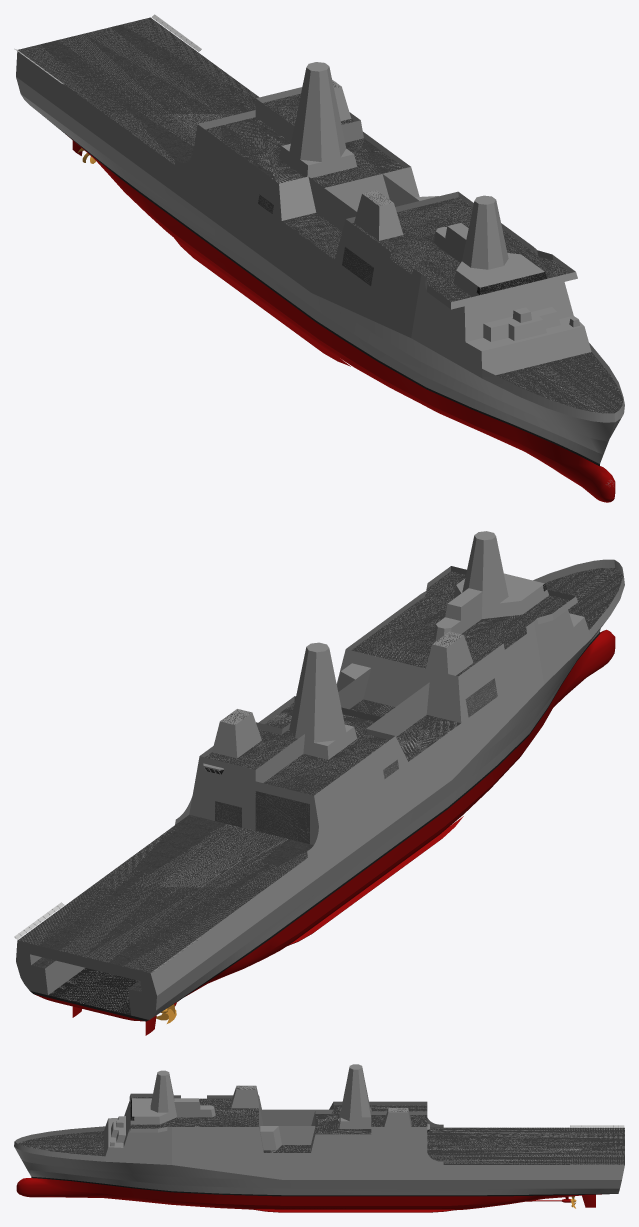
3 views of the same model, one above another, from view 1: azimuth 30°, elevation 25°; view 2: azimuth 150°, elevation 25°; view 3: azimuth 270°, elevation 25° (orthographic). The views are drawn at different scales.
Parts seen in each view (by area): view 1: group_0 (×5), group_15 (×3), hull__1_2_ (×3), group_6, group_5, group_1, Bilge_Keel__short_; view 2: group_0 (×7), group_15 (×4), hull__1_2_ (×6), group_6, group_5, Bilge_Keel__short_; view 3: group_0 (×5), group_15 (×3), hull__1_2_ (×3), group_6, group_5, Bilge_Keel__short_, group_7, group_1.
Boxes of the visible parts, x1,y1,x2,y2 form: group_0 (×5): (175, 86, 591, 378); group_15 (×3): (16, 17, 622, 441); hull__1_2_ (×3): (16, 77, 612, 502); group_6: (289, 62, 346, 161); group_5: (462, 195, 508, 269); group_1: (482, 369, 614, 422); Bilge_Keel__short_: (174, 238, 350, 366); group_0 (×7): (175, 566, 591, 857); group_15 (×4): (16, 568, 623, 995); hull__1_2_ (×6): (16, 629, 615, 1021); group_6: (289, 642, 346, 742); group_5: (462, 531, 508, 605); Bilge_Keel__short_: (288, 816, 463, 945); group_0 (×5): (104, 1086, 443, 1164); group_15 (×3): (14, 1127, 624, 1179); hull__1_2_ (×3): (16, 1160, 621, 1210); group_6: (340, 1064, 371, 1121); group_5: (150, 1070, 175, 1112); Bilge_Keel__short_: (253, 1209, 455, 1212); group_7: (14, 1141, 105, 1161); group_1: (14, 1126, 105, 1143).
Size of the model in its own units: 1256 by 8182 by 1928.
Materials: 8 (3 with a texture image).
